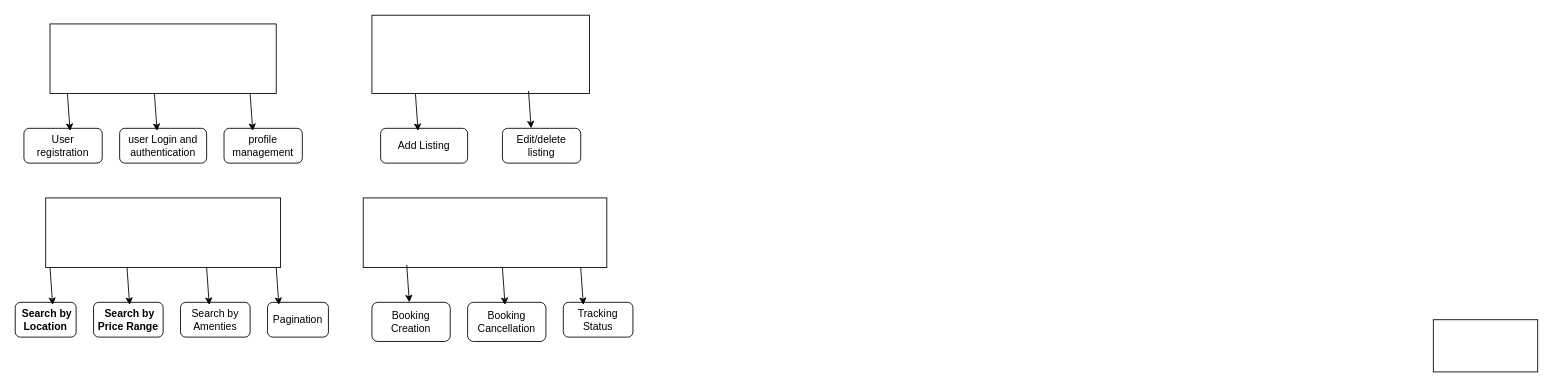
Image size: 1553x387. Some labels were removed from this diagram. The centre of each missing label's shape, as x and y in pixels:
"Booking management" belongs at (484,232).
"Host" belongs at (1485,345).
"Property listing management" belongs at (480,54).
"Search and Filtering" belongs at (163,232).
"User management" belongs at (162,58).
